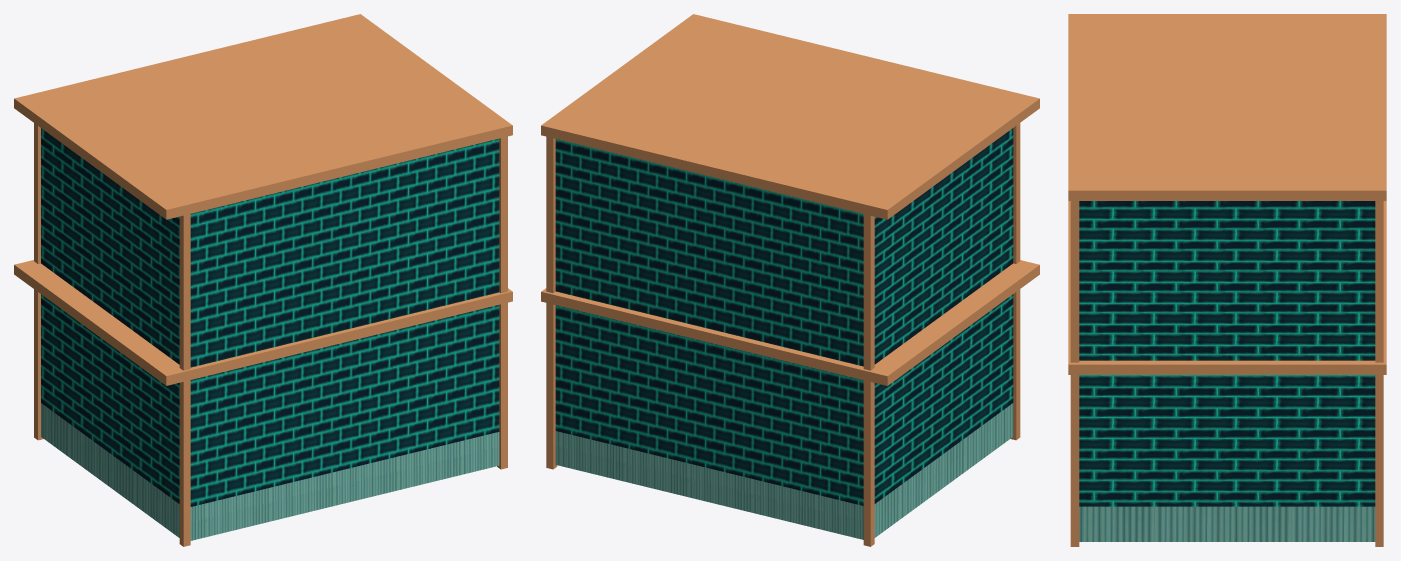
The model's file is building1 1.fbx.
The picture shows the model from 3 angles, left to right: view 1: azimuth 30°, elevation 25°; view 2: azimuth 150°, elevation 25°; view 3: azimuth 270°, elevation 25°; orthographic projection. The views are drawn at different scales.
Parts seen in each view (by area): view 1: Cube.017; view 2: Cube.017; view 3: Cube.017.
Boxes of the visible parts, left/top/right/bottom form: Cube.017: left=14, top=14, right=512, bottom=546; Cube.017: left=541, top=14, right=1039, bottom=546; Cube.017: left=1068, top=14, right=1386, bottom=546.
Size of the model in its own units: 1690 by 1596 by 1287.
